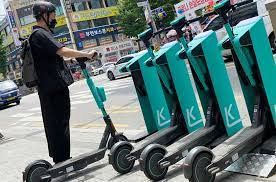kick_handler: (136, 30, 162, 41)
kick_neck: (81, 68, 119, 131)
kick_wheel: (185, 148, 218, 182), (141, 145, 168, 179), (108, 141, 136, 173)
